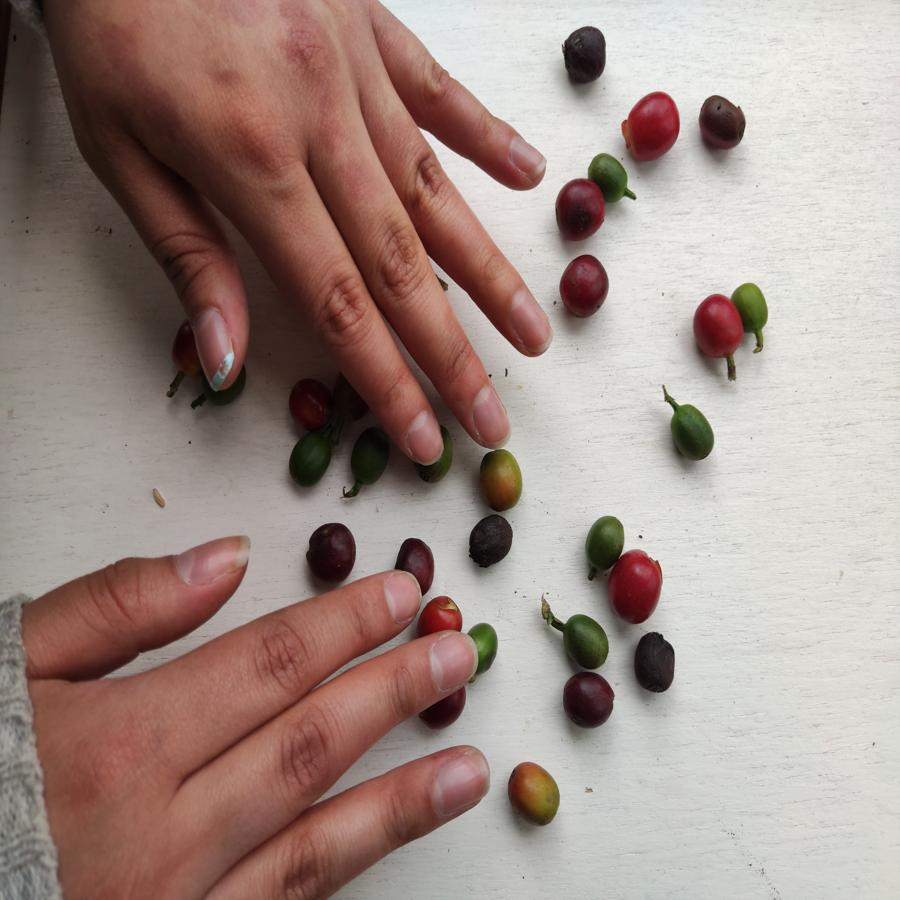Inmaduro: (557, 610, 612, 669), (666, 401, 718, 463), (735, 280, 780, 338), (348, 433, 390, 484), (290, 439, 334, 487), (585, 514, 623, 567), (591, 152, 635, 195), (476, 621, 500, 668)
Maduro: (623, 93, 688, 161), (688, 294, 746, 360), (614, 551, 664, 623), (424, 593, 462, 630)
Pinton: (507, 758, 567, 832), (476, 451, 523, 506)
Sobremaduro: (556, 250, 614, 323), (559, 671, 624, 732), (463, 510, 520, 572), (555, 25, 609, 84), (554, 178, 604, 239), (633, 629, 677, 697), (699, 92, 751, 149), (308, 525, 358, 579), (286, 377, 329, 430), (399, 533, 438, 571)
